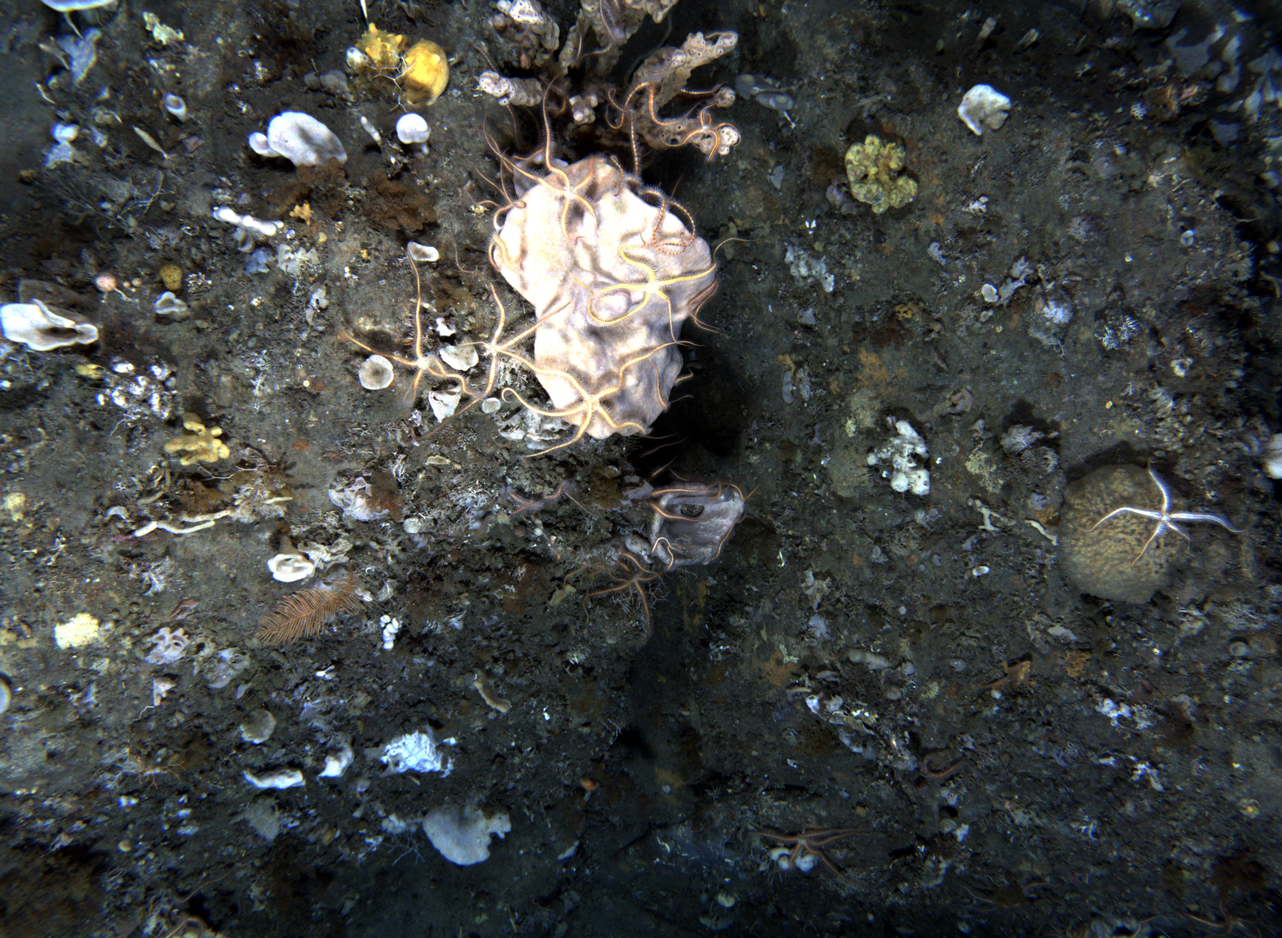Brachionichthyidae: (978, 659, 1038, 691)
